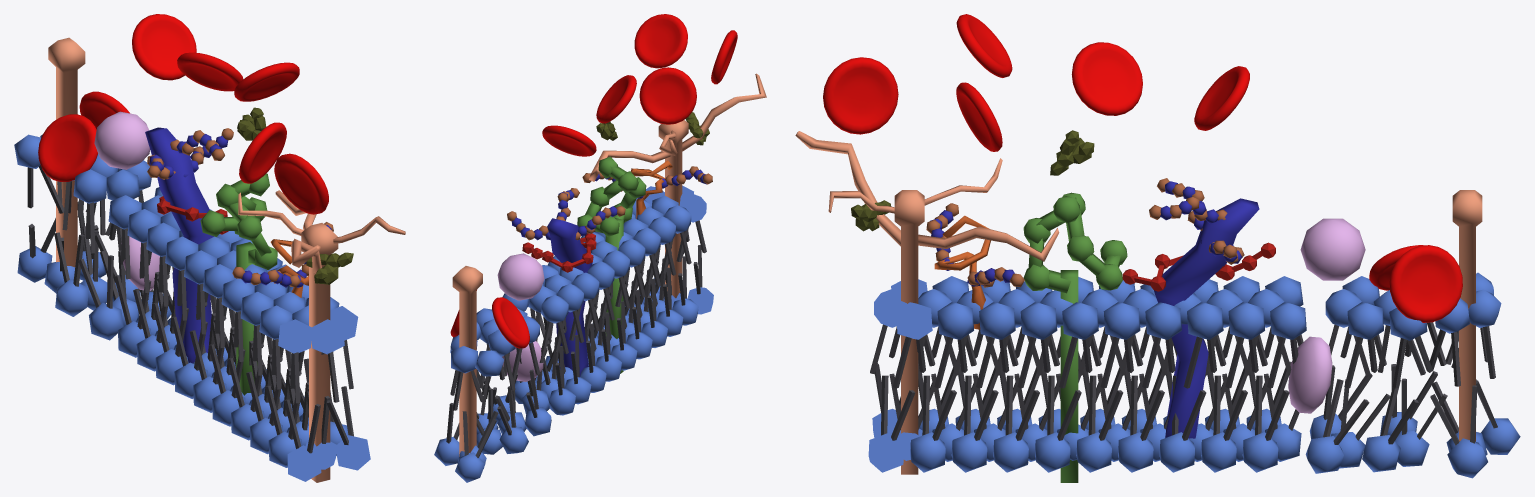
The model's file is glycocalyx-transformed.glb.
3 renders of one model, left to right at view 1: azimuth 30°, elevation 25°; view 2: azimuth 150°, elevation 25°; view 3: azimuth 270°, elevation 25°, orthographic. The views are drawn at different scales.
Parts seen in each view (by area): view 1: Membrane; view 2: Membrane; view 3: Membrane.
Part boxes in pixels (left/top/right/bottom): Membrane: left=14, top=14, right=405, bottom=482; Membrane: left=434, top=14, right=766, bottom=482; Membrane: left=795, top=14, right=1520, bottom=482.
Bounding box in the file's own units: 7.86 × 23.1 × 33.68.
1 material, 1 textured.
